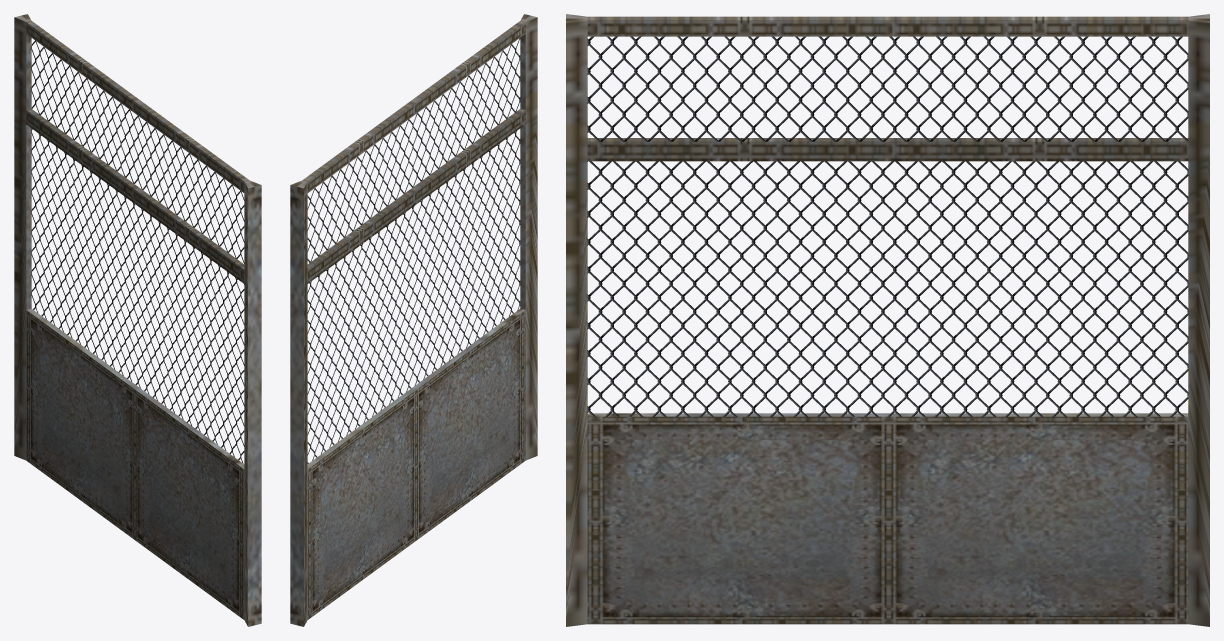
Rendered from M10_WIREGATE_1.glb.
3 renders of one model, left to right at view 1: azimuth 30°, elevation 25°; view 2: azimuth 150°, elevation 25°; view 3: azimuth 270°, elevation 25°, orthographic. The views are drawn at different scales.
Parts seen in each view (by area): view 1: M10_WIREGATE_1; view 2: M10_WIREGATE_1; view 3: M10_WIREGATE_1.
Part boxes in pixels (x1,y1,x2,y2): M10_WIREGATE_1: (14,14,261,626); M10_WIREGATE_1: (290,14,537,626); M10_WIREGATE_1: (566,14,1209,626).
Size of the model in its own units: 0.06 by 1.86 by 1.8.
Materials: 2 (2 with a texture image).
